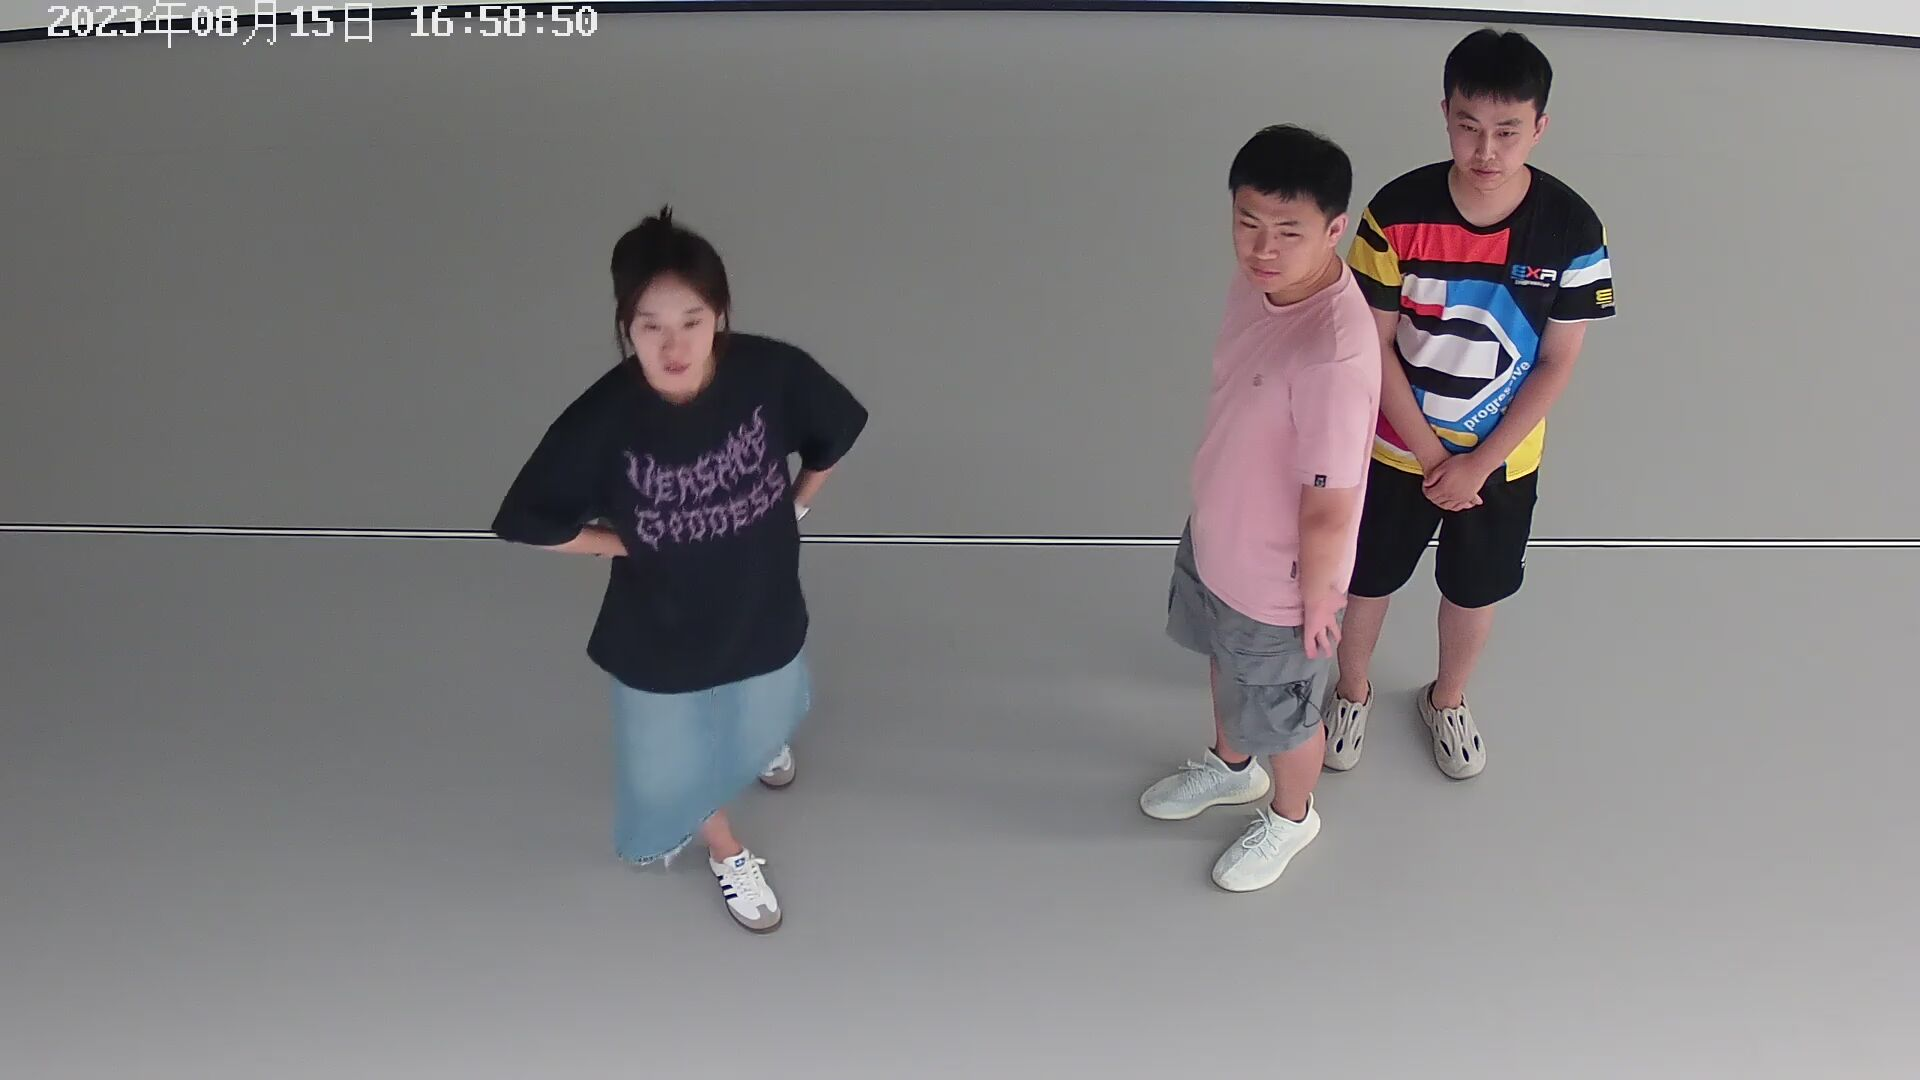normal: (1116, 11, 1644, 922), (488, 185, 895, 981)
